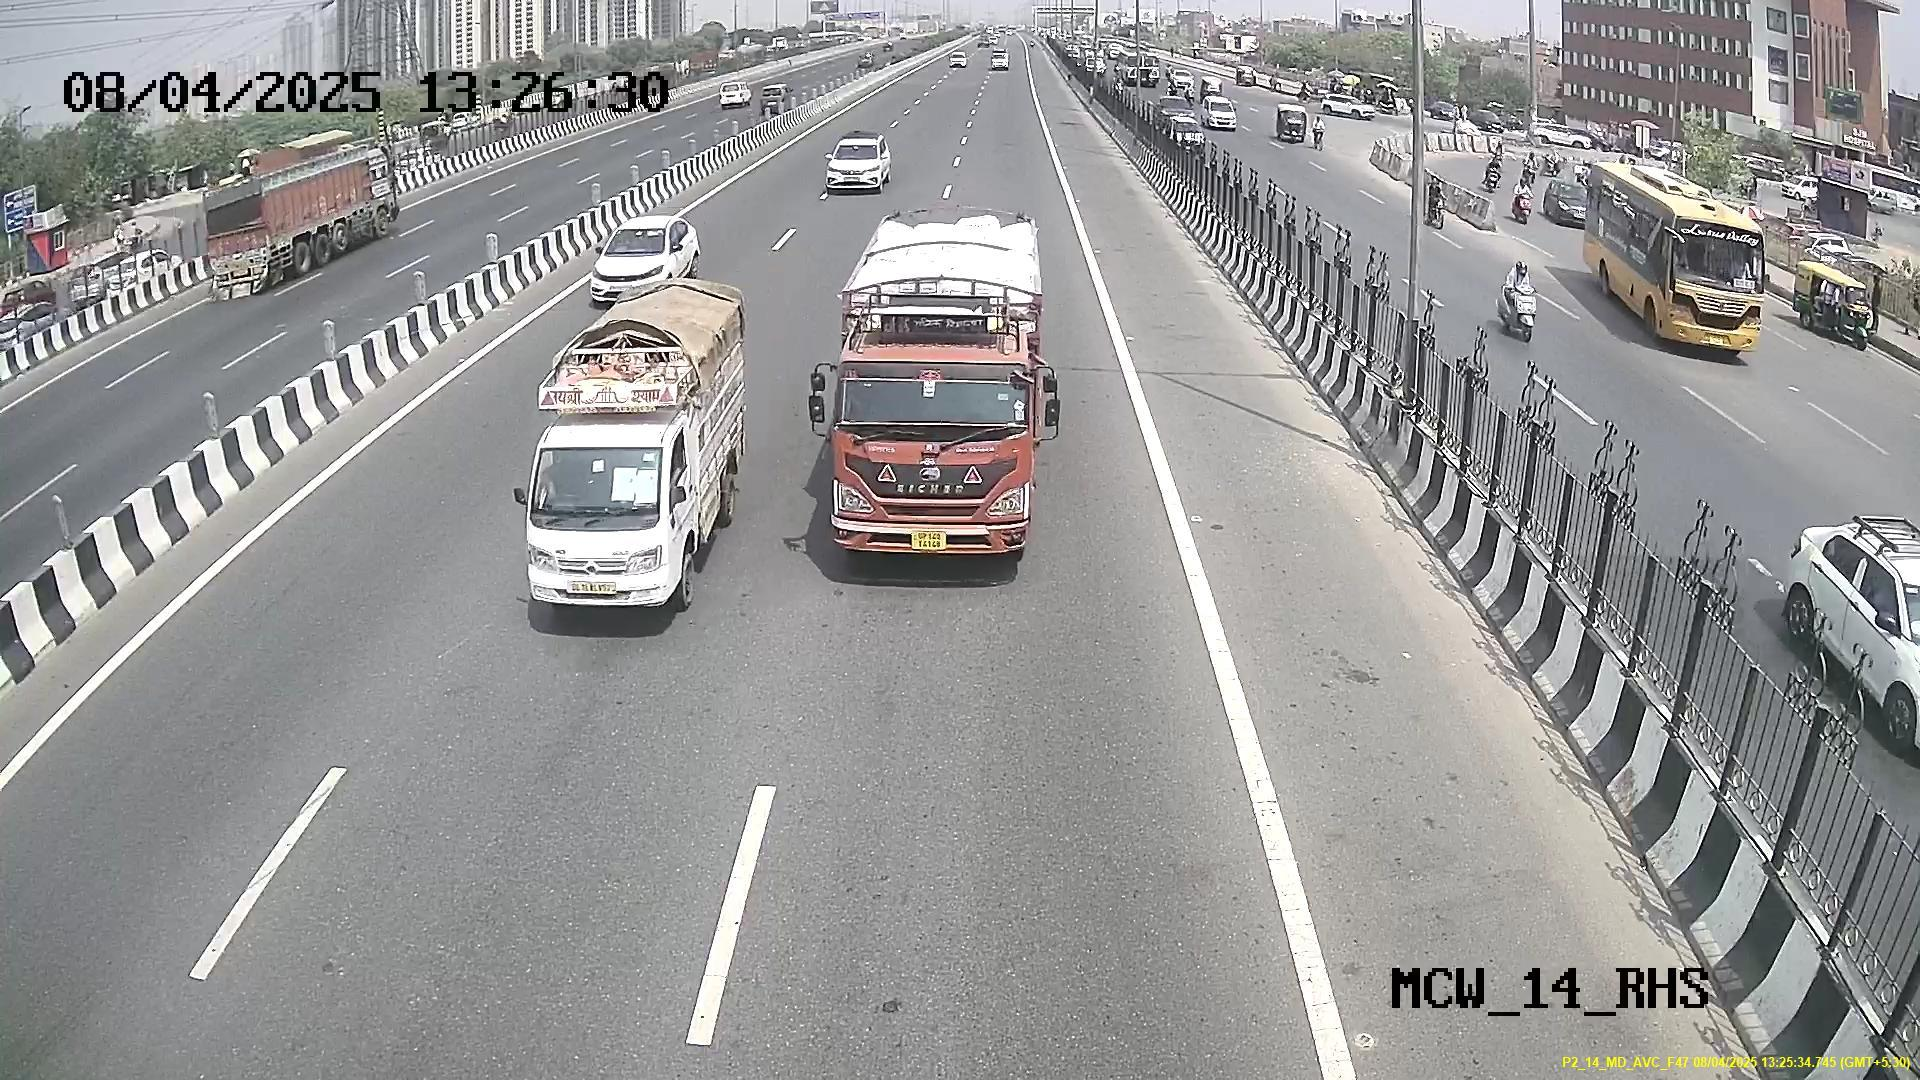car: (516, 418, 705, 625), (583, 224, 680, 299), (820, 135, 890, 196)
lcv: (829, 342, 1035, 564)
